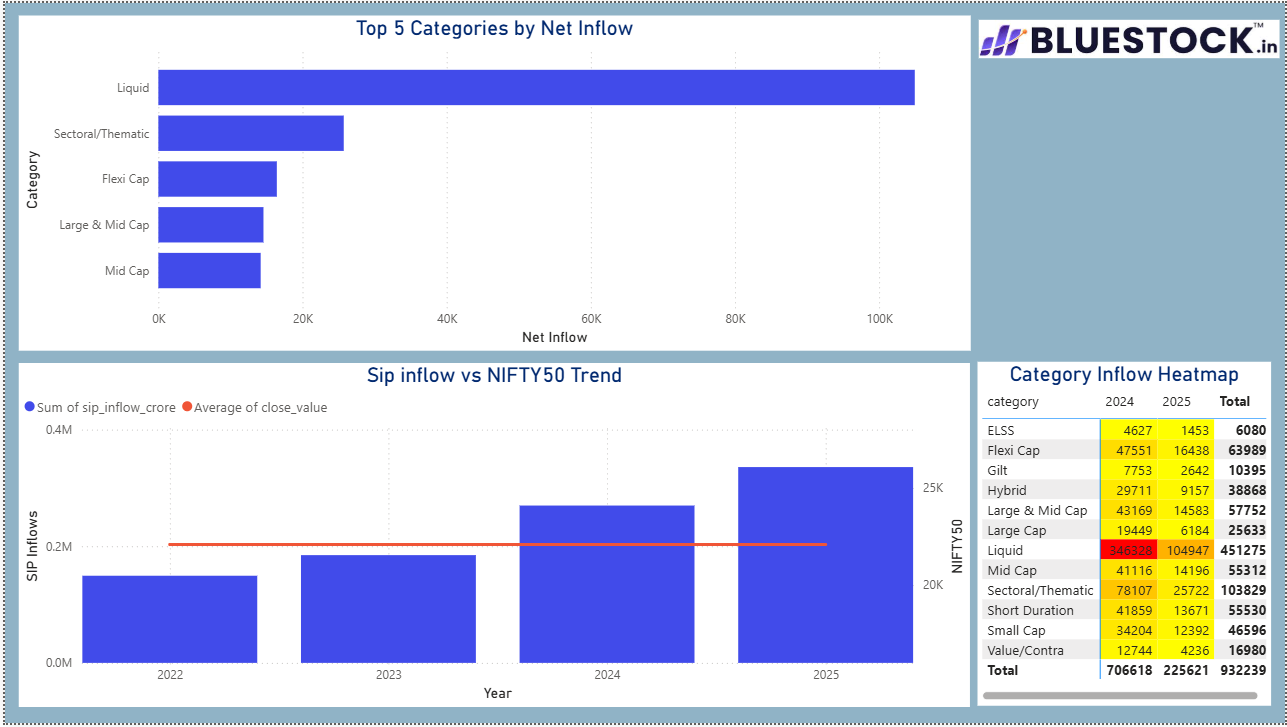

This screenshot's page, from the dashboard's own definition file:
{"tool":"powerbi","page":{"name":"SIP & Market Trends","canvas":[1280,720],"ordinal":3},"visuals":[{"type":"lineClusteredColumnComboChart","title":"Sip inflow vs NIFTY50 Trend","fields":{"Category":["04_monthly_sip_inflows_clean.month.Variation.Date Hierarchy.Year","04_monthly_sip_inflows_clean.month.Variation.Date Hierarchy.Quarter","04_monthly_sip_inflows_clean.month.Variation.Date Hierarchy.Month","04_monthly_sip_inflows_clean.month.Variation.Date Hierarchy.Day"],"Y":["Sum(04_monthly_sip_inflows_clean.sip_inflow_crore)"],"Y2":["Avg(10_benchmark_indices_clean.close_value)"]},"box":[13.5,359.5,951.4,343.6],"z":0},{"type":"pivotTable","title":"Category Inflow Heatmap","fields":{"Rows":["05_category_inflows_clean.category"],"Values":["Sum(05_category_inflows_clean.net_inflow_crore)"],"Columns":["05_category_inflows_clean.month.Variation.Date Hierarchy.Year","05_category_inflows_clean.month.Variation.Date Hierarchy.Quarter","05_category_inflows_clean.month.Variation.Date Hierarchy.Month","05_category_inflows_clean.month.Variation.Date Hierarchy.Day"]},"box":[972.5,359,293.6,343.7],"z":1},{"type":"clusteredBarChart","title":"Top 5 Categories by Net Inflow","fields":{"Category":["05_category_inflows_clean.category"],"Y":["Sum(05_category_inflows_clean.net_inflow_crore)"]},"box":[13.9,12.5,951.7,335.3],"z":2},{"type":"image","box":[973.9,0,300.5,72.3],"z":3}]}

Visuals, with their boxes in screenshot pixels (x1, y1, x2, y2), scaled from the page's 1280x720 canvas onto the 1287x727 screenshot:
"Sip inflow vs NIFTY50 Trend" lineClusteredColumnComboChart: 14, 363, 970, 710
"Category Inflow Heatmap" pivotTable: 978, 362, 1273, 710
"Top 5 Categories by Net Inflow" clusteredBarChart: 14, 13, 971, 351
image: 979, 0, 1281, 73
